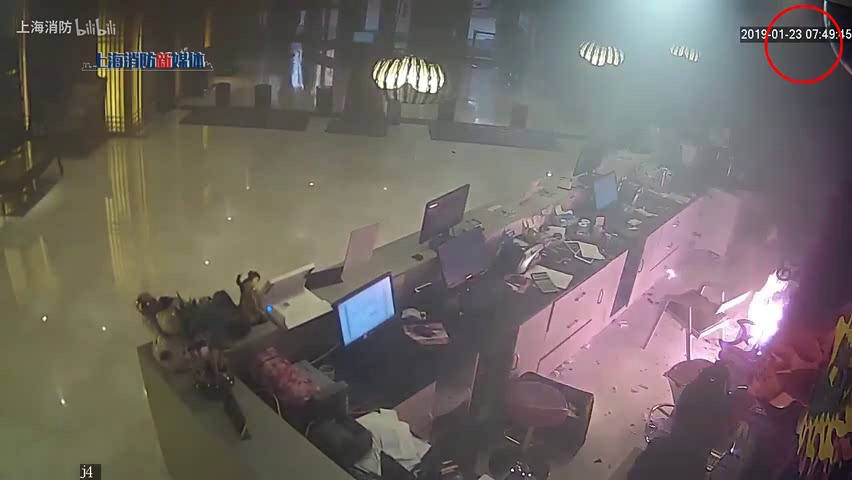fire: (732, 265, 797, 353)
